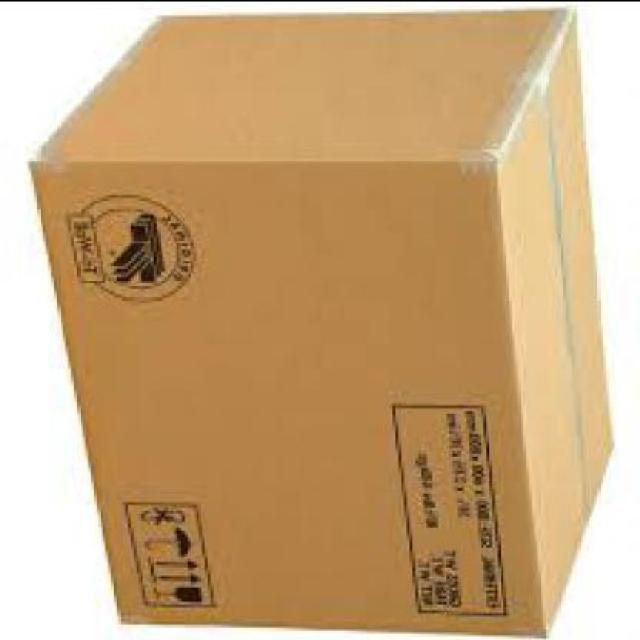CARDBOARD: (28, 12, 614, 638)
